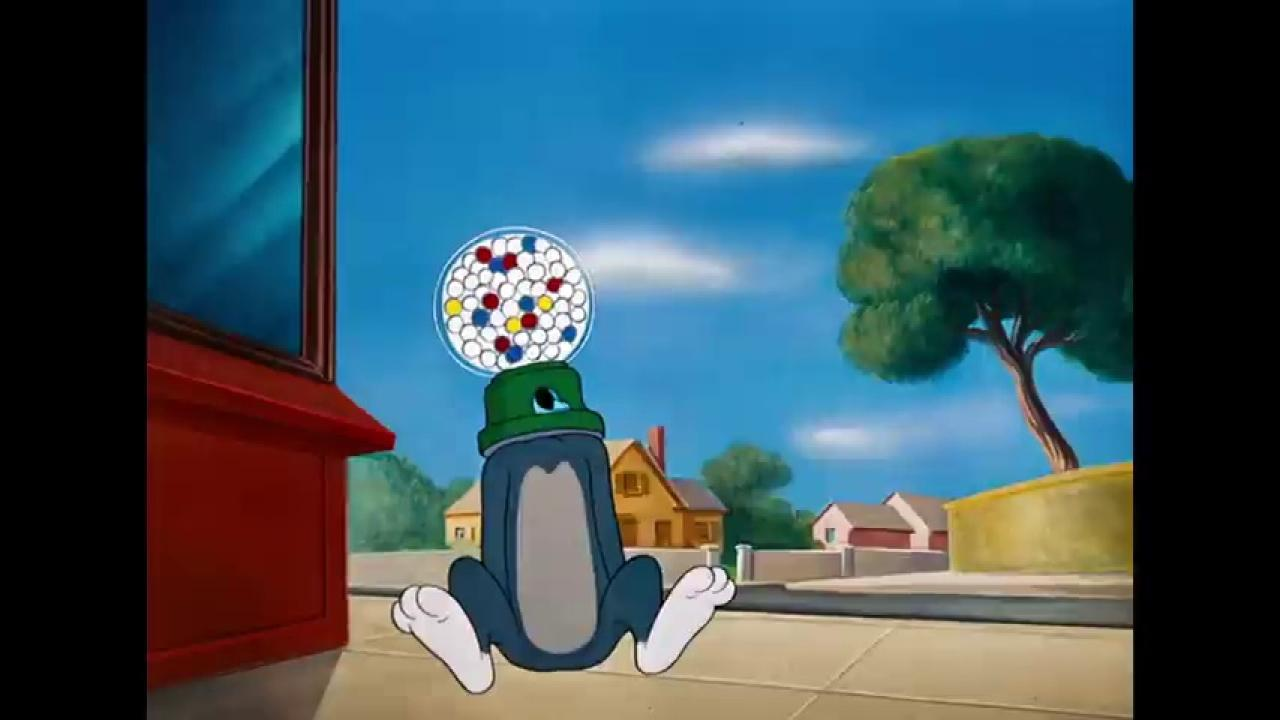Tom: (389, 430, 737, 698)
